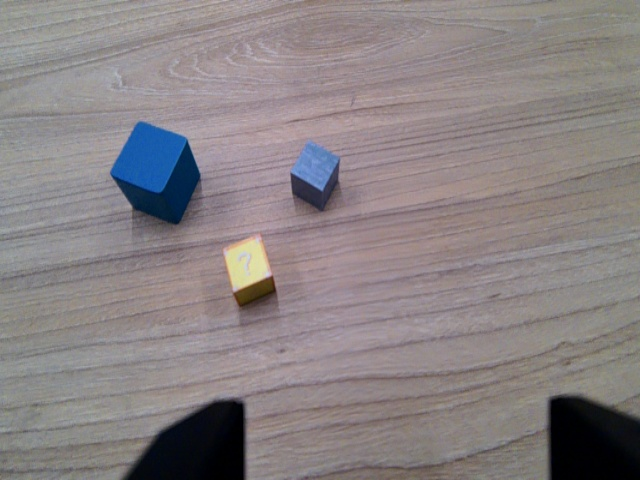lucky: (215, 235, 287, 310)
stone: (285, 140, 345, 214)
